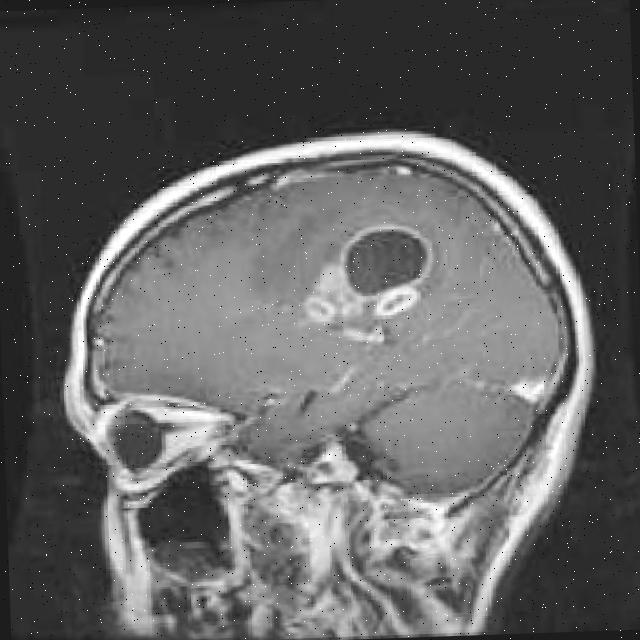EMCI: (352, 268, 444, 348)
MCI: (262, 239, 346, 351)
